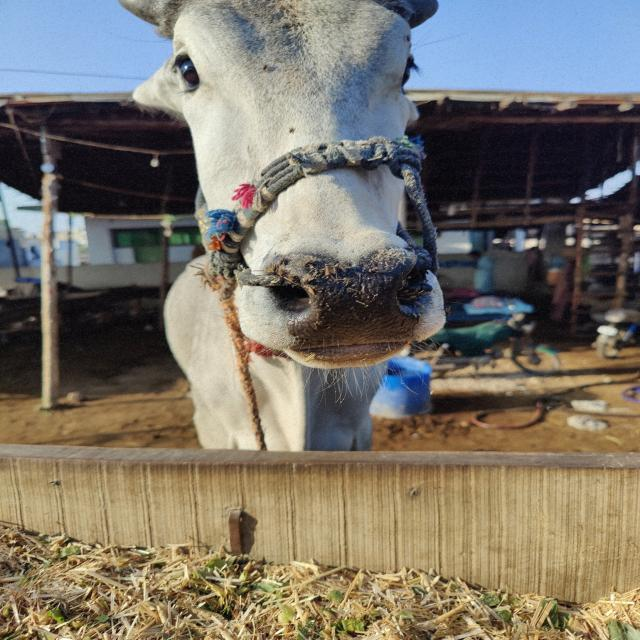muzzles: (258, 244, 439, 358)
